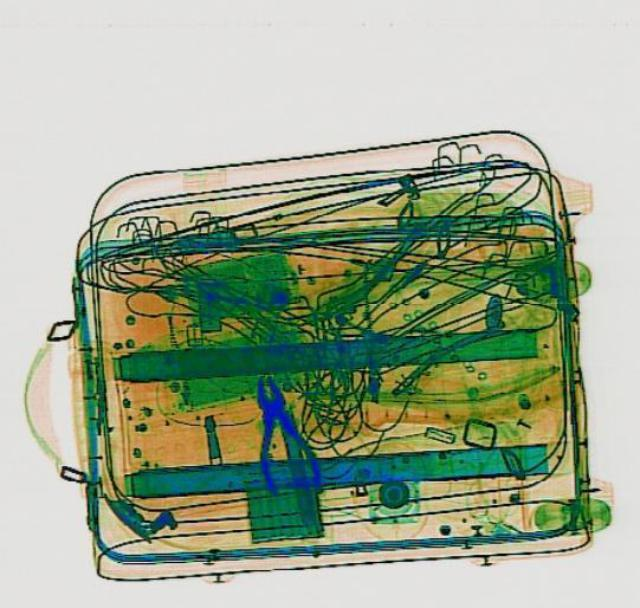Pliers: (238, 368, 324, 493)
